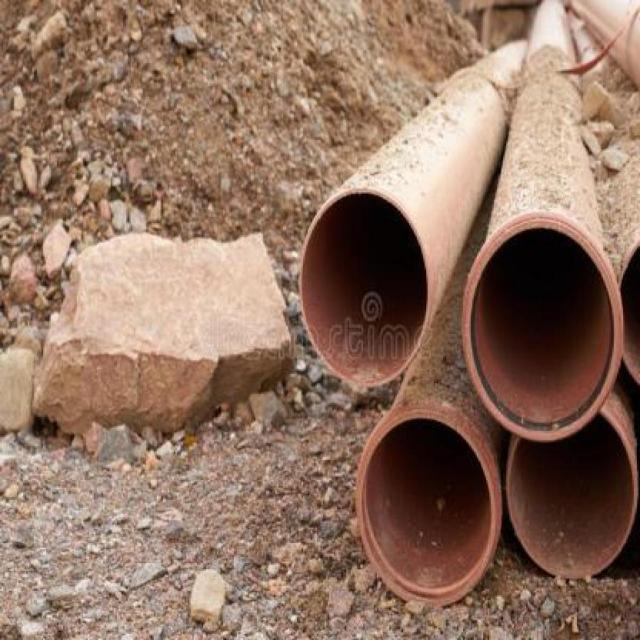pipe: (464, 219, 624, 441), (355, 411, 497, 605), (300, 188, 428, 387), (507, 411, 638, 579)
